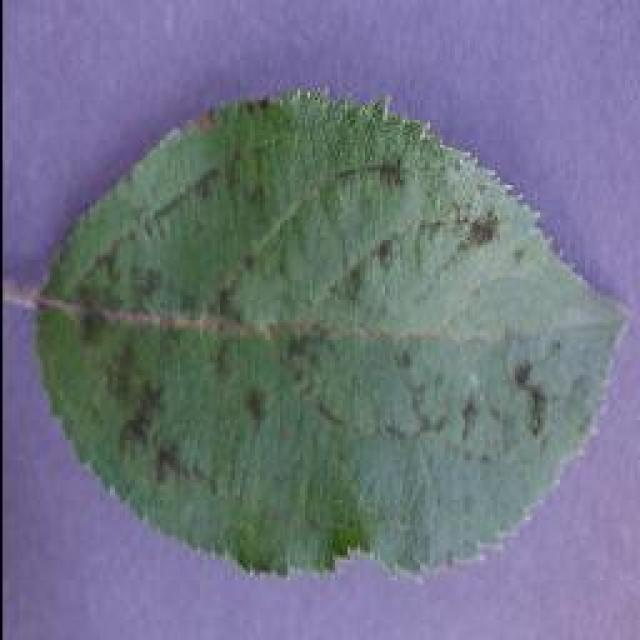apple scab disease: (25, 85, 633, 583)
